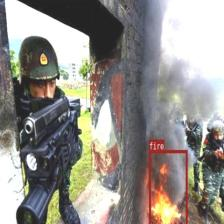fire: (149, 150, 187, 224)
